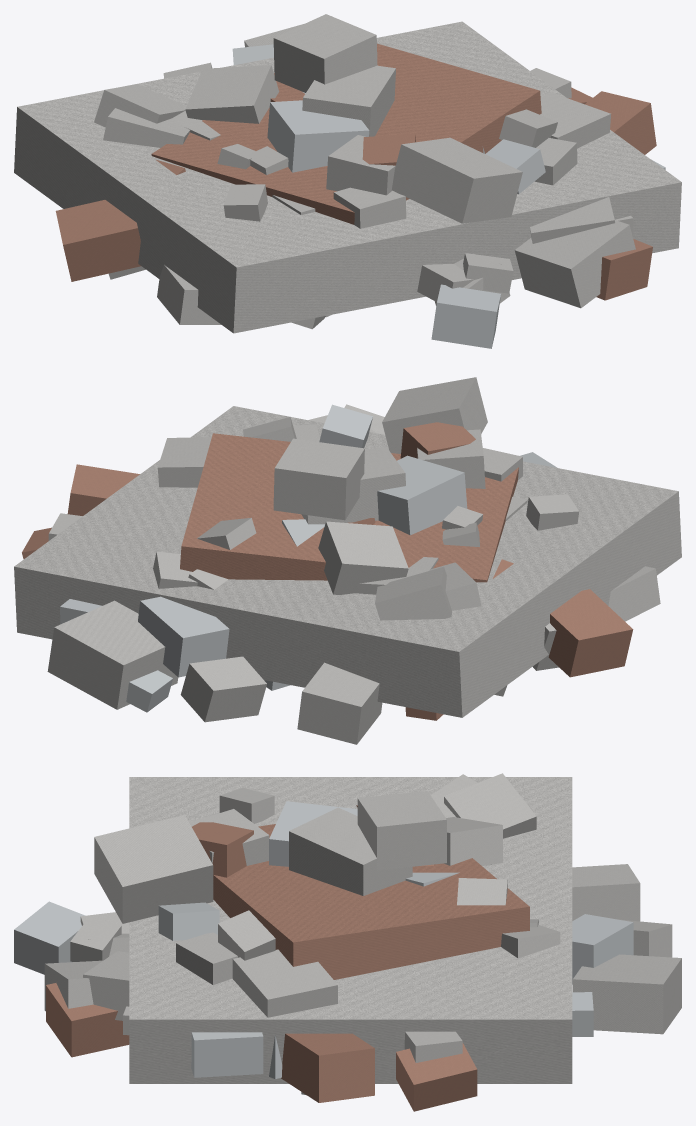
File: demolition-and-site-clearance-demolition-and-site-clea-39fb5211__35678.glb
The picture shows the model from 3 angles, top to bottom: view 1: azimuth 30°, elevation 25°; view 2: azimuth 150°, elevation 25°; view 3: azimuth 270°, elevation 25°; orthographic projection.
Parts seen in each view (by area): view 1: demolition-and-site-clearance-rubble-pile-small; view 2: demolition-and-site-clearance-rubble-pile-small; view 3: demolition-and-site-clearance-rubble-pile-small.
Boxes of the visible parts, <box> form: demolition-and-site-clearance-rubble-pile-small: <box>14,14,681,348</box>; demolition-and-site-clearance-rubble-pile-small: <box>14,377,681,744</box>; demolition-and-site-clearance-rubble-pile-small: <box>14,773,681,1111</box>.
Size of the model in its own units: 2.2 by 0.622 by 2.19.
3 materials, 2 textured.
